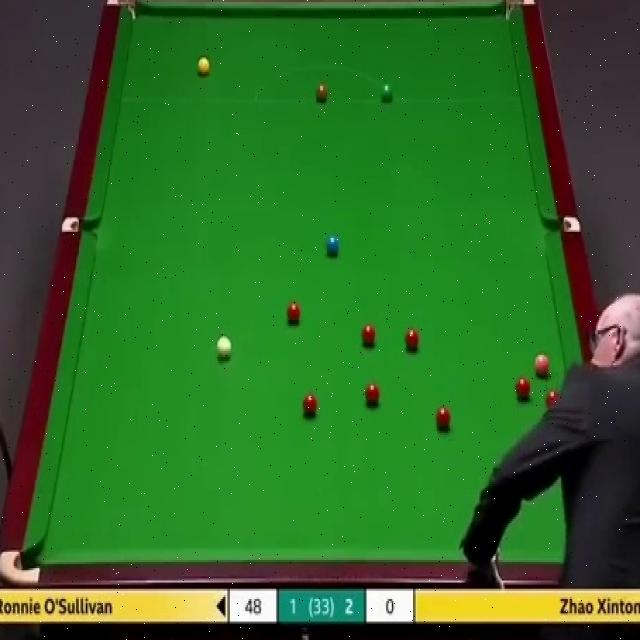blue-ball: (326, 235, 339, 258)
brown-ball: (316, 84, 328, 102)
green-ball: (381, 83, 393, 102)
pink-ball: (534, 351, 551, 378)
red-ball: (544, 387, 562, 413), (434, 405, 451, 431), (360, 323, 376, 347), (405, 325, 420, 350), (515, 377, 531, 399), (366, 382, 380, 407), (302, 392, 318, 413), (287, 300, 301, 322)
white-ball: (214, 334, 233, 363)
yellow-ball: (197, 57, 211, 79)
